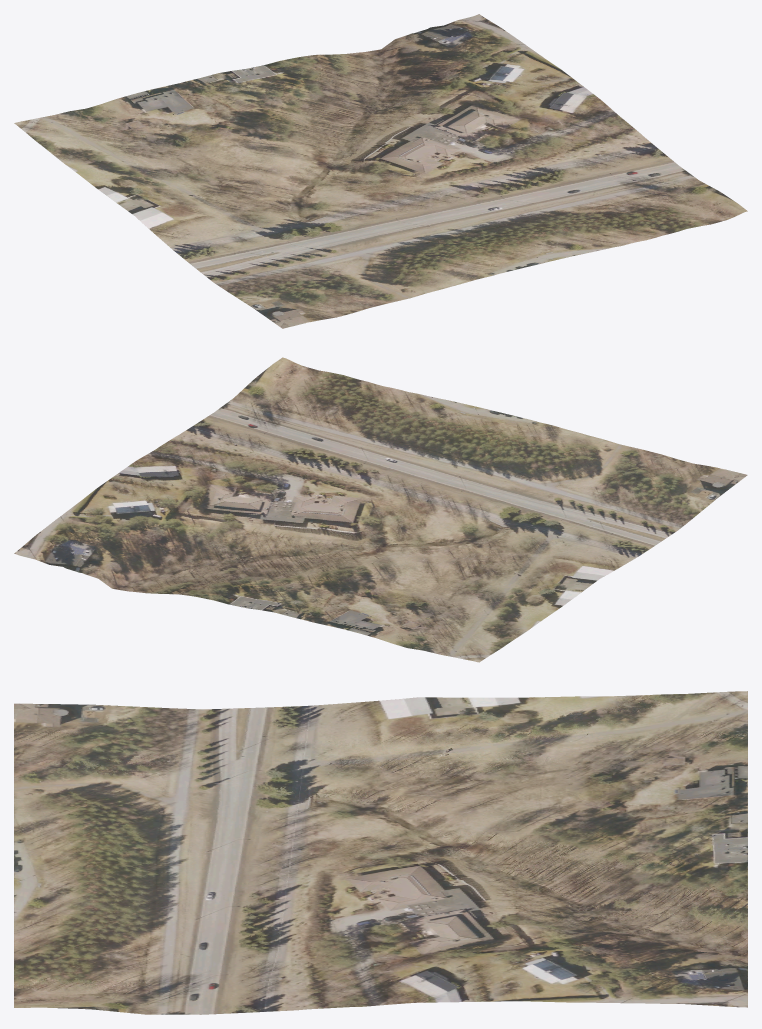
Rendered from CM_Terrain_24491073_6820408.fbx.
3 renders of one model, top to bottom at view 1: azimuth 30°, elevation 25°; view 2: azimuth 150°, elevation 25°; view 3: azimuth 270°, elevation 25°, orthographic. The views are drawn at different scales.
Parts seen in each view (by area): view 1: CM_Terrain_24491073_6820408_LOD0; view 2: CM_Terrain_24491073_6820408_LOD0; view 3: CM_Terrain_24491073_6820408_LOD0.
Boxes of the visible parts, x1,y1,x2,y2 form: CM_Terrain_24491073_6820408_LOD0: (14,14,747,328); CM_Terrain_24491073_6820408_LOD0: (14,357,747,662); CM_Terrain_24491073_6820408_LOD0: (14,691,747,1014).
Size of what is drawn, in the model's own units: 205 by 6.81 by 205.
